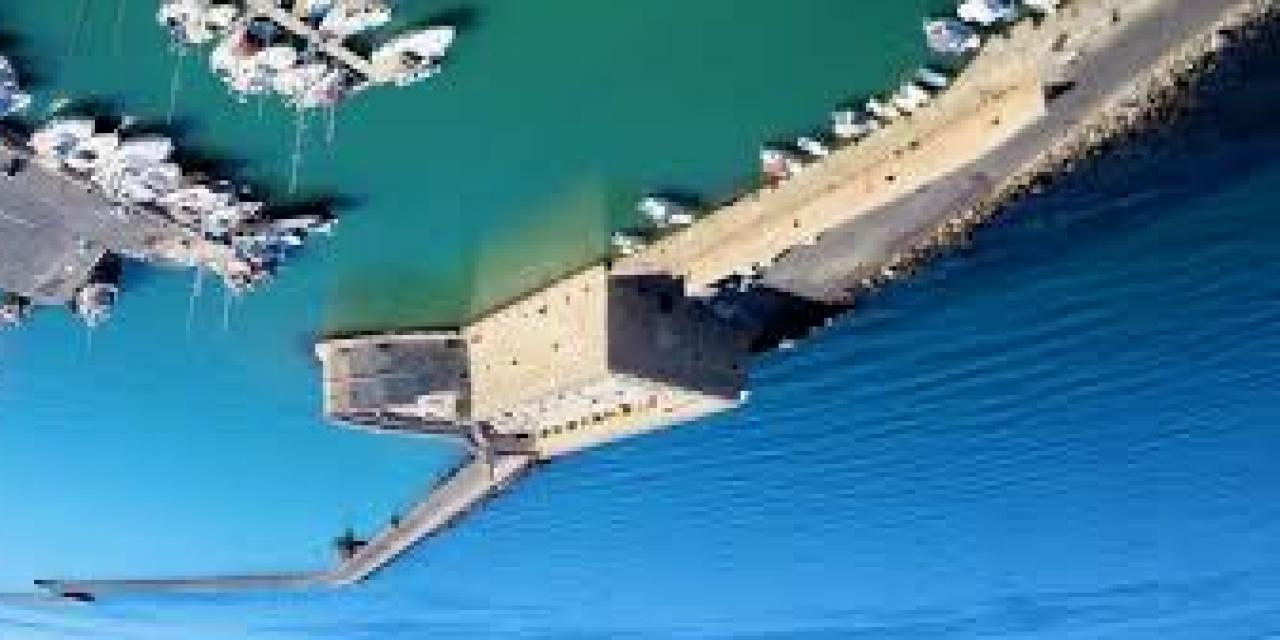Kules: (313, 260, 756, 462)
